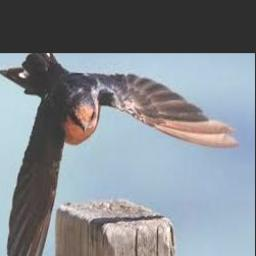Swallow: (0, 53, 239, 256)
